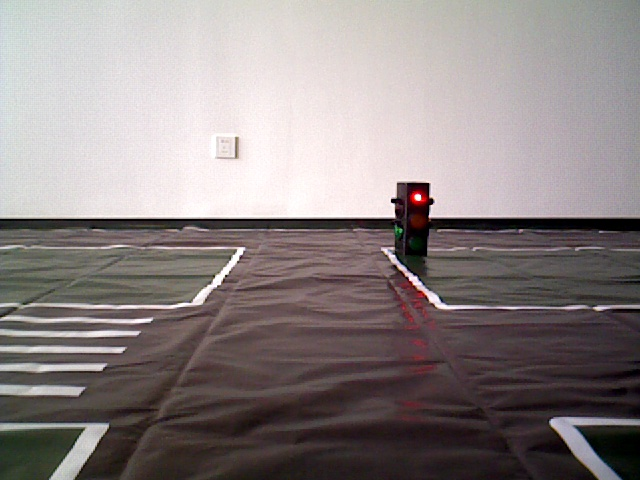red: (392, 183, 429, 258)
